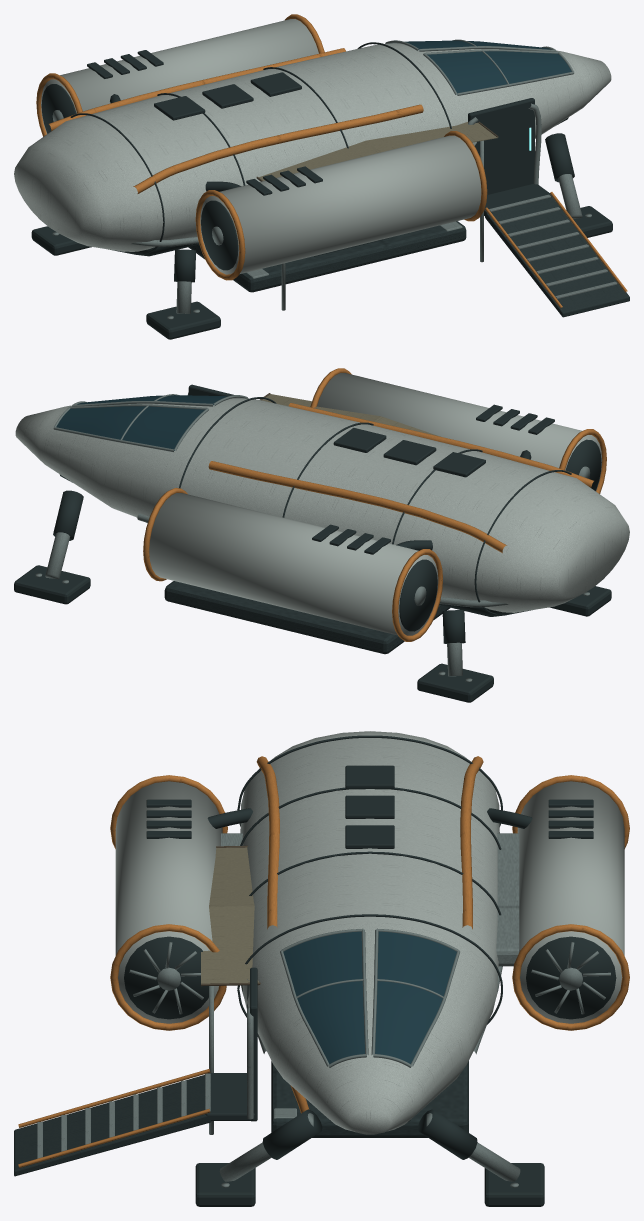
Rendered from identity-186.glb.
3 renders of one model, top to bottom at view 1: azimuth 30°, elevation 25°; view 2: azimuth 150°, elevation 25°; view 3: azimuth 270°, elevation 25°, orthographic. The views are drawn at different scales.
Visible parts, largest first — view 1: shuttle__Ceramic painted alloy, shuttle__Graphite rubber and understructure, shuttle__Worn orange safety enamel, shuttle__Exposed brushed steel, station-lia__Graphite rubber and understructure, shuttle__Smoked cockpit glass, station-lia__Weathered field canvas, station-lia__Exposed brushed steel; view 2: shuttle__Ceramic painted alloy, shuttle__Graphite rubber and understructure, shuttle__Worn orange safety enamel, station-lia__Graphite rubber and understructure, shuttle__Smoked cockpit glass, shuttle__Exposed brushed steel, station-lia__Weathered field canvas; view 3: shuttle__Ceramic painted alloy, shuttle__Graphite rubber and understructure, shuttle__Smoked cockpit glass, shuttle__Exposed brushed steel, shuttle__Worn orange safety enamel, station-lia__Weathered field canvas, station-lia__Graphite rubber and understructure, station-lia__Exposed brushed steel.
Boxes of the visible parts, x1,y1,x2,y2 form: shuttle__Ceramic painted alloy: (14,19,611,274); shuttle__Graphite rubber and understructure: (31,42,629,339); shuttle__Worn orange safety enamel: (36,14,627,308); shuttle__Exposed brushed steel: (52,39,617,319); station-lia__Graphite rubber and understructure: (188,221,466,292); shuttle__Smoked cockpit glass: (405,40,571,94); station-lia__Weathered field canvas: (259,122,498,180); station-lia__Exposed brushed steel: (246,140,483,310); shuttle__Ceramic painted alloy: (15,373,629,635); shuttle__Graphite rubber and understructure: (14,384,611,702); shuttle__Worn orange safety enamel: (143,368,606,641); station-lia__Graphite rubber and understructure: (164,581,450,654); shuttle__Smoked cockpit glass: (56,395,227,450); shuttle__Exposed brushed steel: (35,392,590,682); station-lia__Weathered field canvas: (262,394,439,436); shuttle__Ceramic painted alloy: (115,731,624,1134); shuttle__Graphite rubber and understructure: (14,735,616,1206); shuttle__Smoked cockpit glass: (283,931,456,1063); shuttle__Exposed brushed steel: (37,833,610,1187); shuttle__Worn orange safety enamel: (18,756,629,1167); station-lia__Weathered field canvas: (201,847,258,983); station-lia__Graphite rubber and understructure: (271,1061,468,1137); station-lia__Exposed brushed steel: (209,986,296,1134).
Bounding box in the file's own units: 11.45 × 3.87 × 8.74.
Materials: 22 (16 with a texture image).
